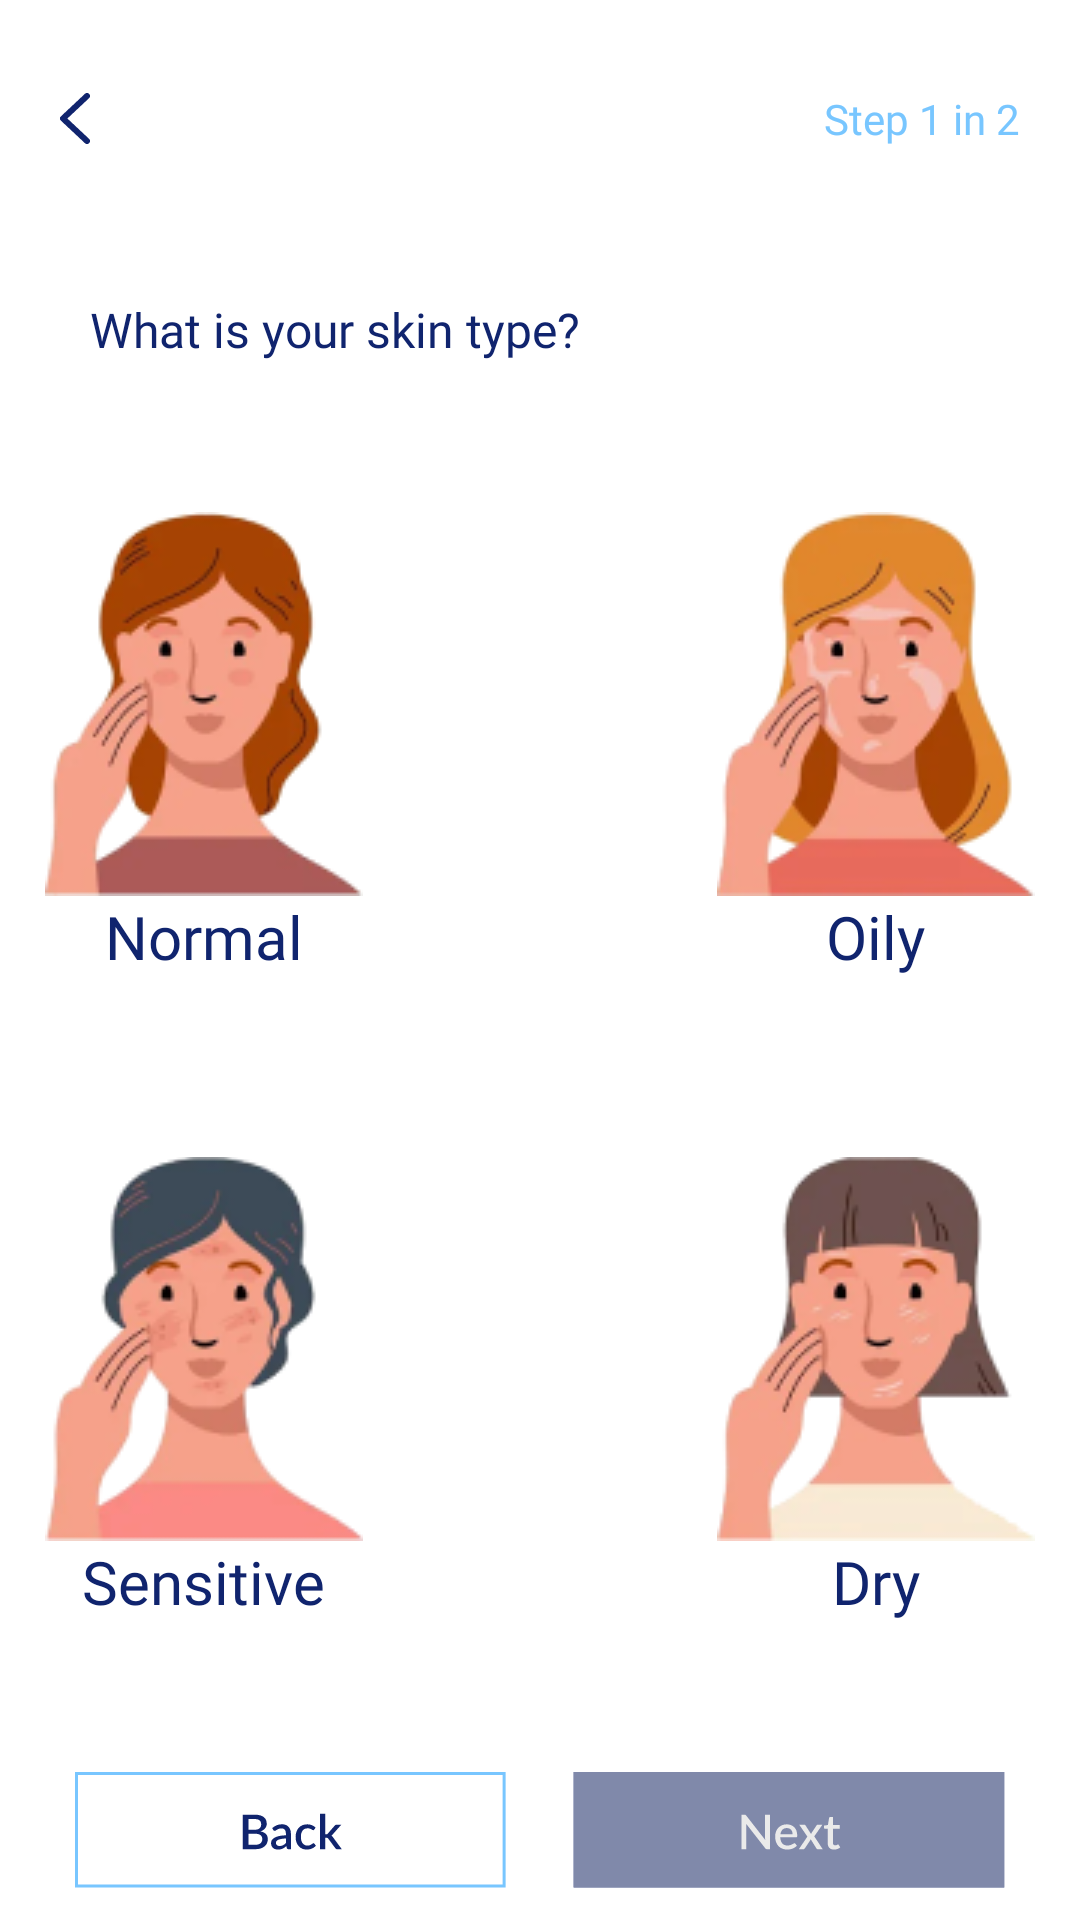

Named icons in this screenshot (1080px×1920px) and their bounding boxes, (x1, y1, x2, y2):
back: (60, 93, 90, 144)
